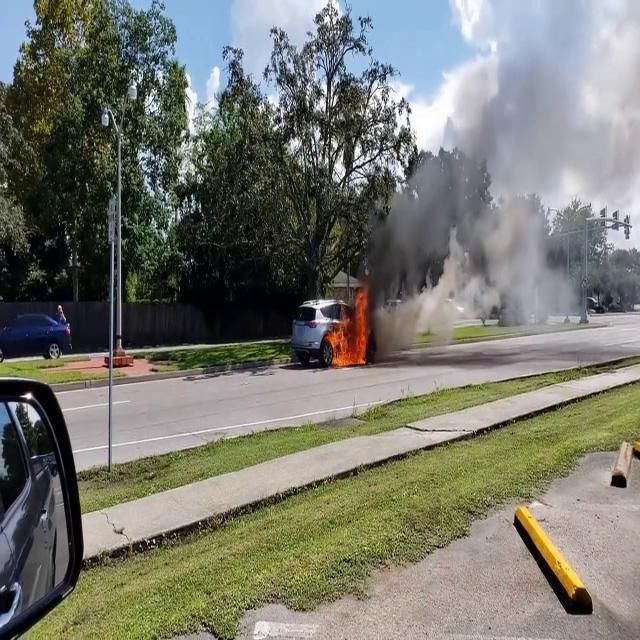Fire: (328, 282, 376, 370)
Smoke: (373, 18, 639, 330)
